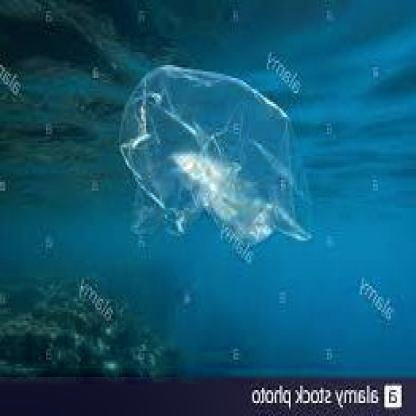pbag: (116, 63, 316, 245)
